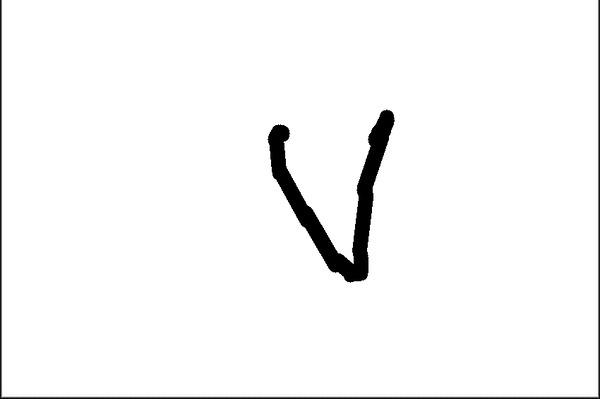V: (251, 95, 414, 285)
